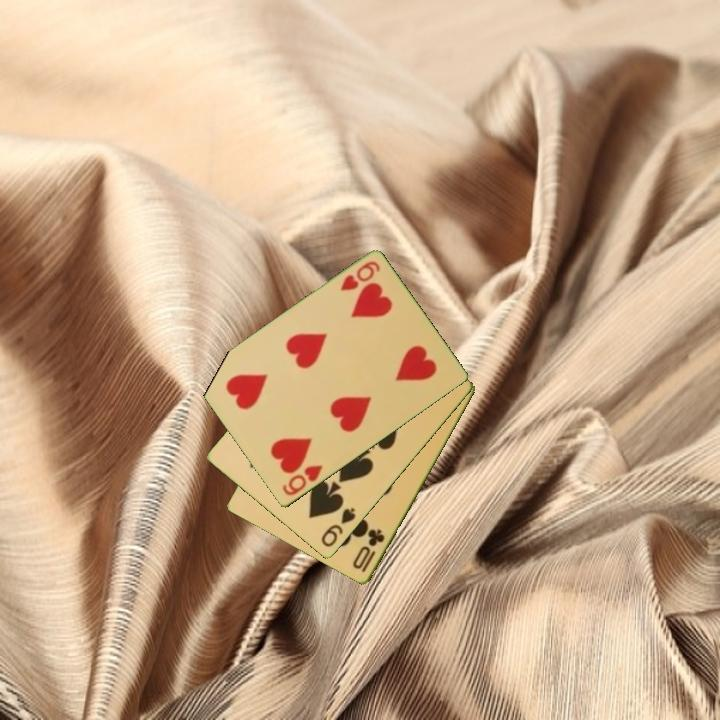10c: (349, 526, 388, 576)
6h: (279, 462, 326, 499), (337, 258, 383, 294)
9s: (317, 504, 359, 551)
